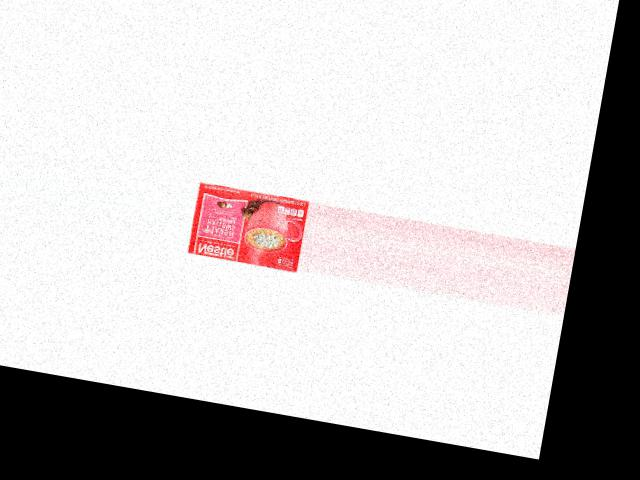chocolate: (190, 178, 310, 270)
